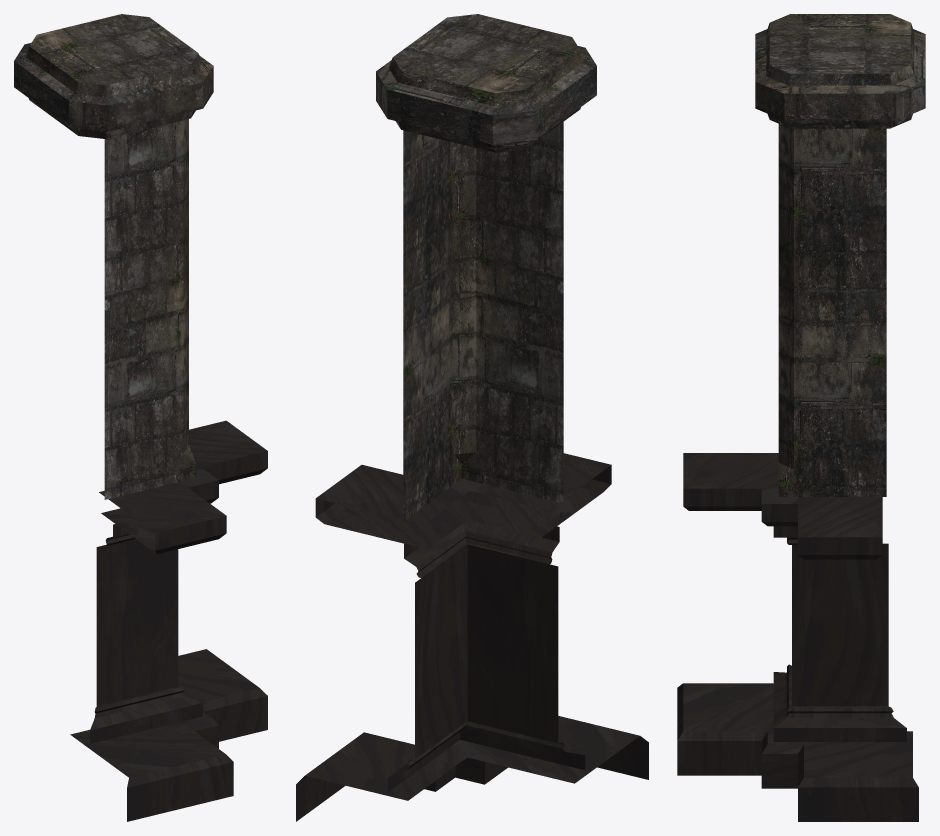
Rendered from corner_column.obj.
3 renders of one model, left to right at view 1: azimuth 30°, elevation 25°; view 2: azimuth 150°, elevation 25°; view 3: azimuth 270°, elevation 25°, orthographic. The views are drawn at different scales.
Parts seen in each view (by area): view 1: [Imported]_corner; view 2: [Imported]_corner; view 3: [Imported]_corner.
Part boxes in pixels (x1,y1,x2,y2): [Imported]_corner: [14, 14, 267, 821]; [Imported]_corner: [296, 14, 648, 821]; [Imported]_corner: [677, 14, 925, 821].
Size of the model in its own units: 3.95 by 12.8 by 4.04.
